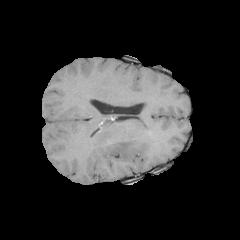glioma: (101, 138, 143, 162)
